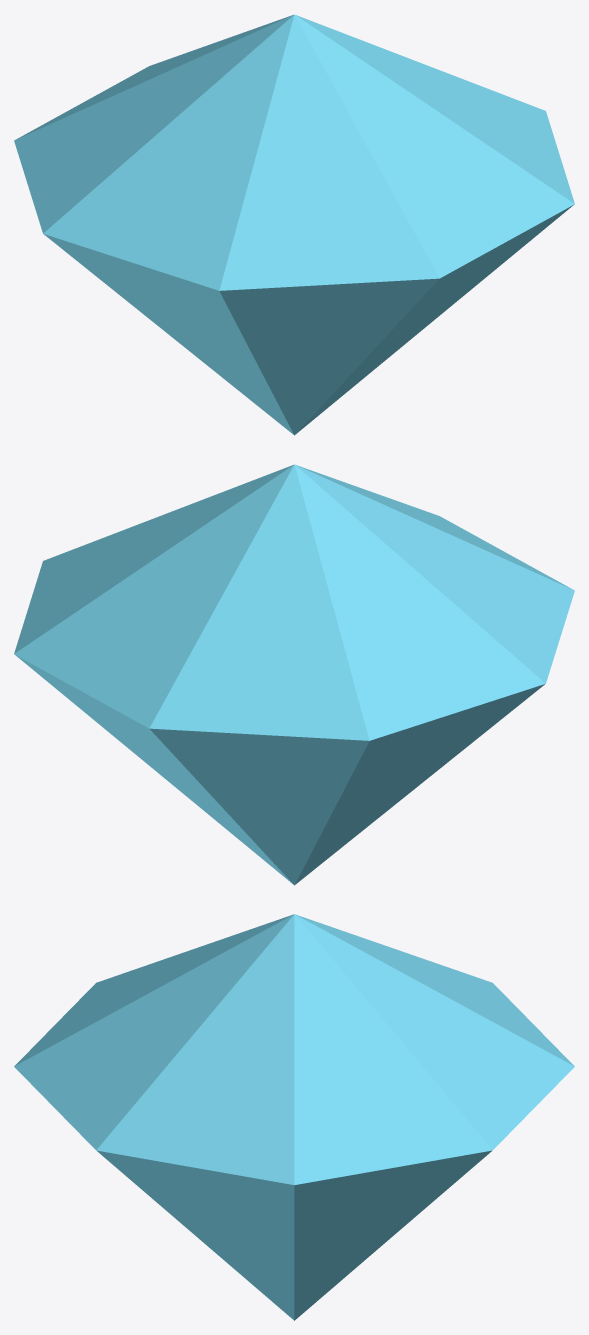
File: gem.glb
The picture shows the model from 3 angles, top to bottom: view 1: azimuth 30°, elevation 25°; view 2: azimuth 150°, elevation 25°; view 3: azimuth 270°, elevation 25°; orthographic projection. The views are drawn at different scales.
Parts seen in each view (by area): view 1: Gem; view 2: Gem; view 3: Gem.
Boxes of the visible parts, left/top/right/bottom form: Gem: left=14, top=14, right=574, bottom=435; Gem: left=14, top=464, right=574, bottom=885; Gem: left=14, top=914, right=574, bottom=1320.
Bounding box in the file's own units: 2 × 1.6 × 2.
